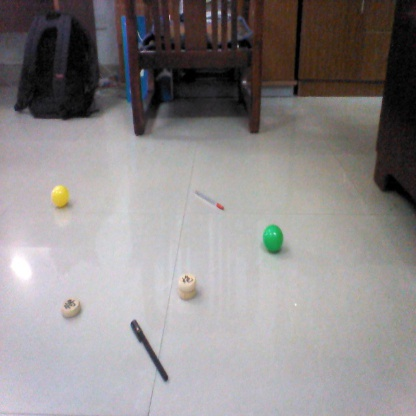ball: (258, 222, 288, 255), (48, 183, 70, 207)
chess: (58, 296, 82, 319), (176, 274, 198, 299)
pen: (132, 319, 170, 382), (195, 191, 225, 209)
